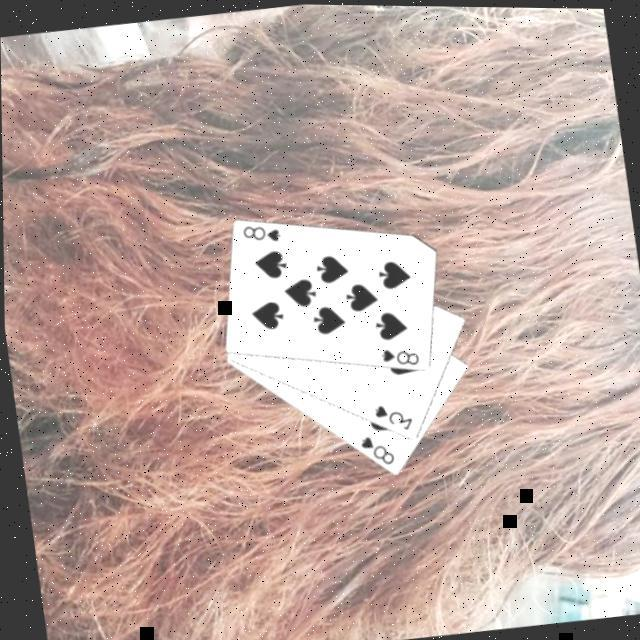3S: (370, 398, 416, 438)
8S: (355, 431, 397, 471), (238, 219, 285, 249), (377, 342, 422, 372)
